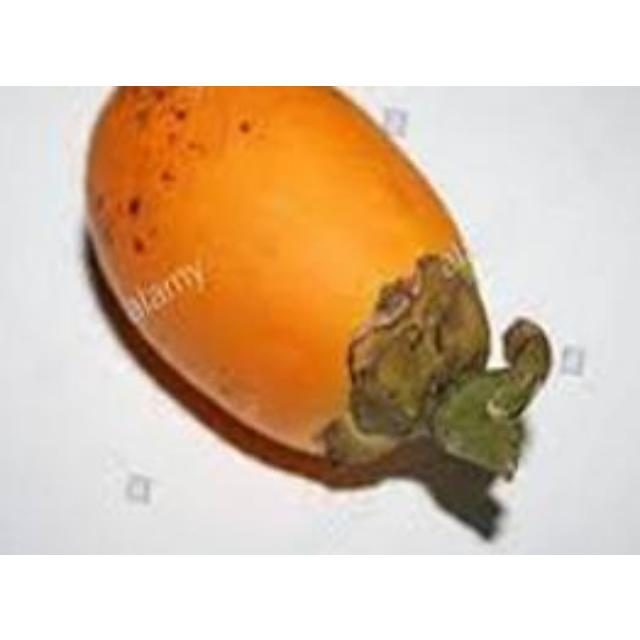good: (83, 85, 557, 478)
